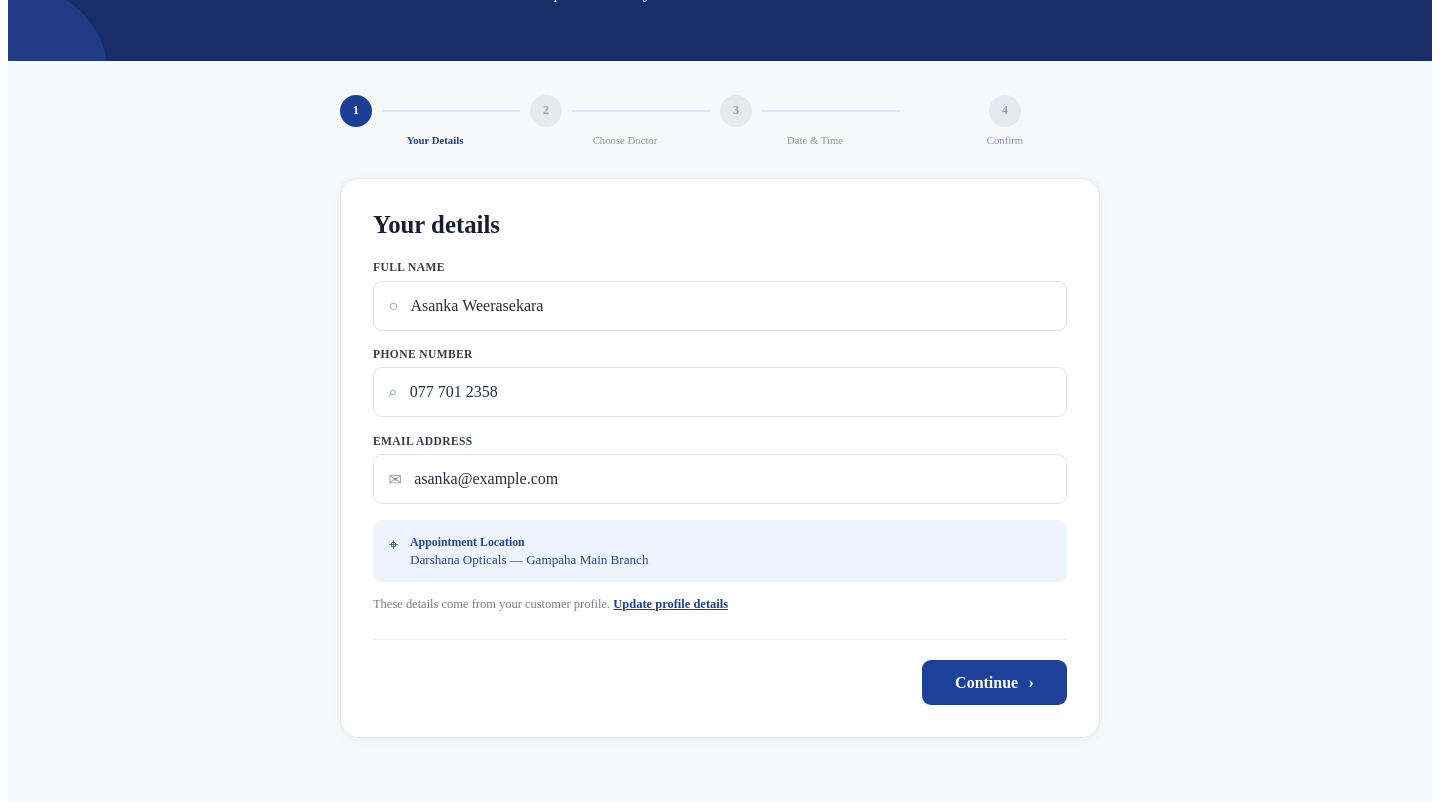
Test case: AppointmentBookingPage › shows Doctors and specializations returned by the appointment service
The width and height of the screenshot is (1440, 810).
(page scrolled)
Expected: the field showing "Asanka Weerasekara" is shown, [408,296,1052,316]
Step 1. Click the button "Continue ›" → (994, 683), box [922,660,1067,705]
(page scrolled)
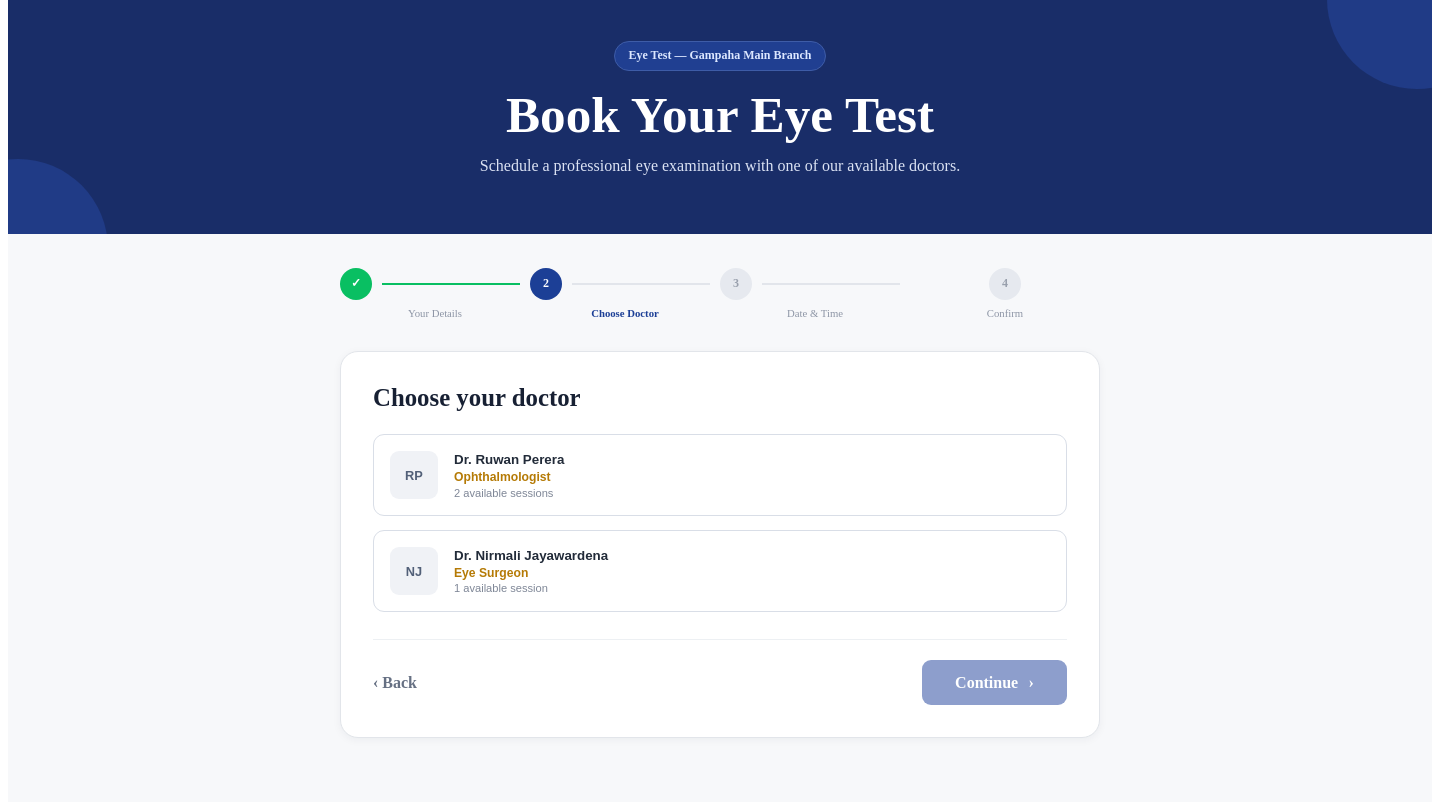
Result: the button "RP Dr. Ruwan Perera Ophthalmologist 2 available sessions" is shown at [373,434,1067,516]
Result: the button "NJ Dr. Nirmali Jayawardena Eye Surgeon 1 available session" is shown at [373,530,1067,612]
Result: the text "Ophthalmologist" is shown at [454,470,551,484]
